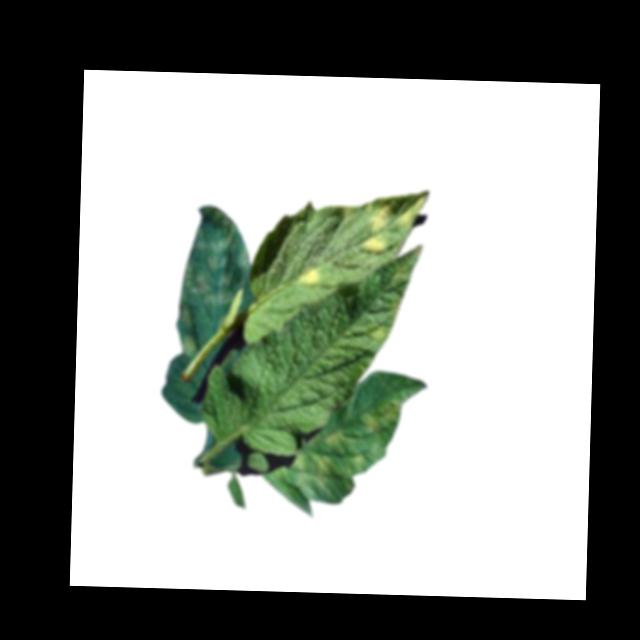Leaf_Mold: (271, 393, 407, 502), (174, 203, 253, 357), (357, 187, 429, 257), (357, 316, 389, 344), (294, 266, 321, 291)
